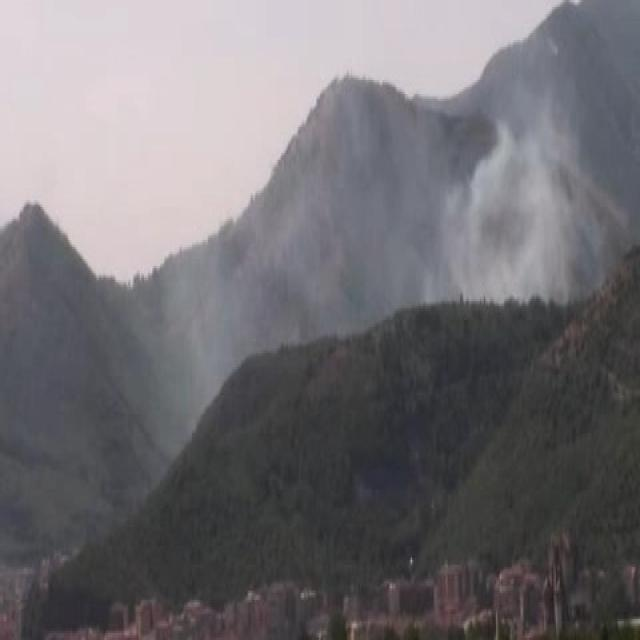Smoke: (301, 109, 584, 299)
